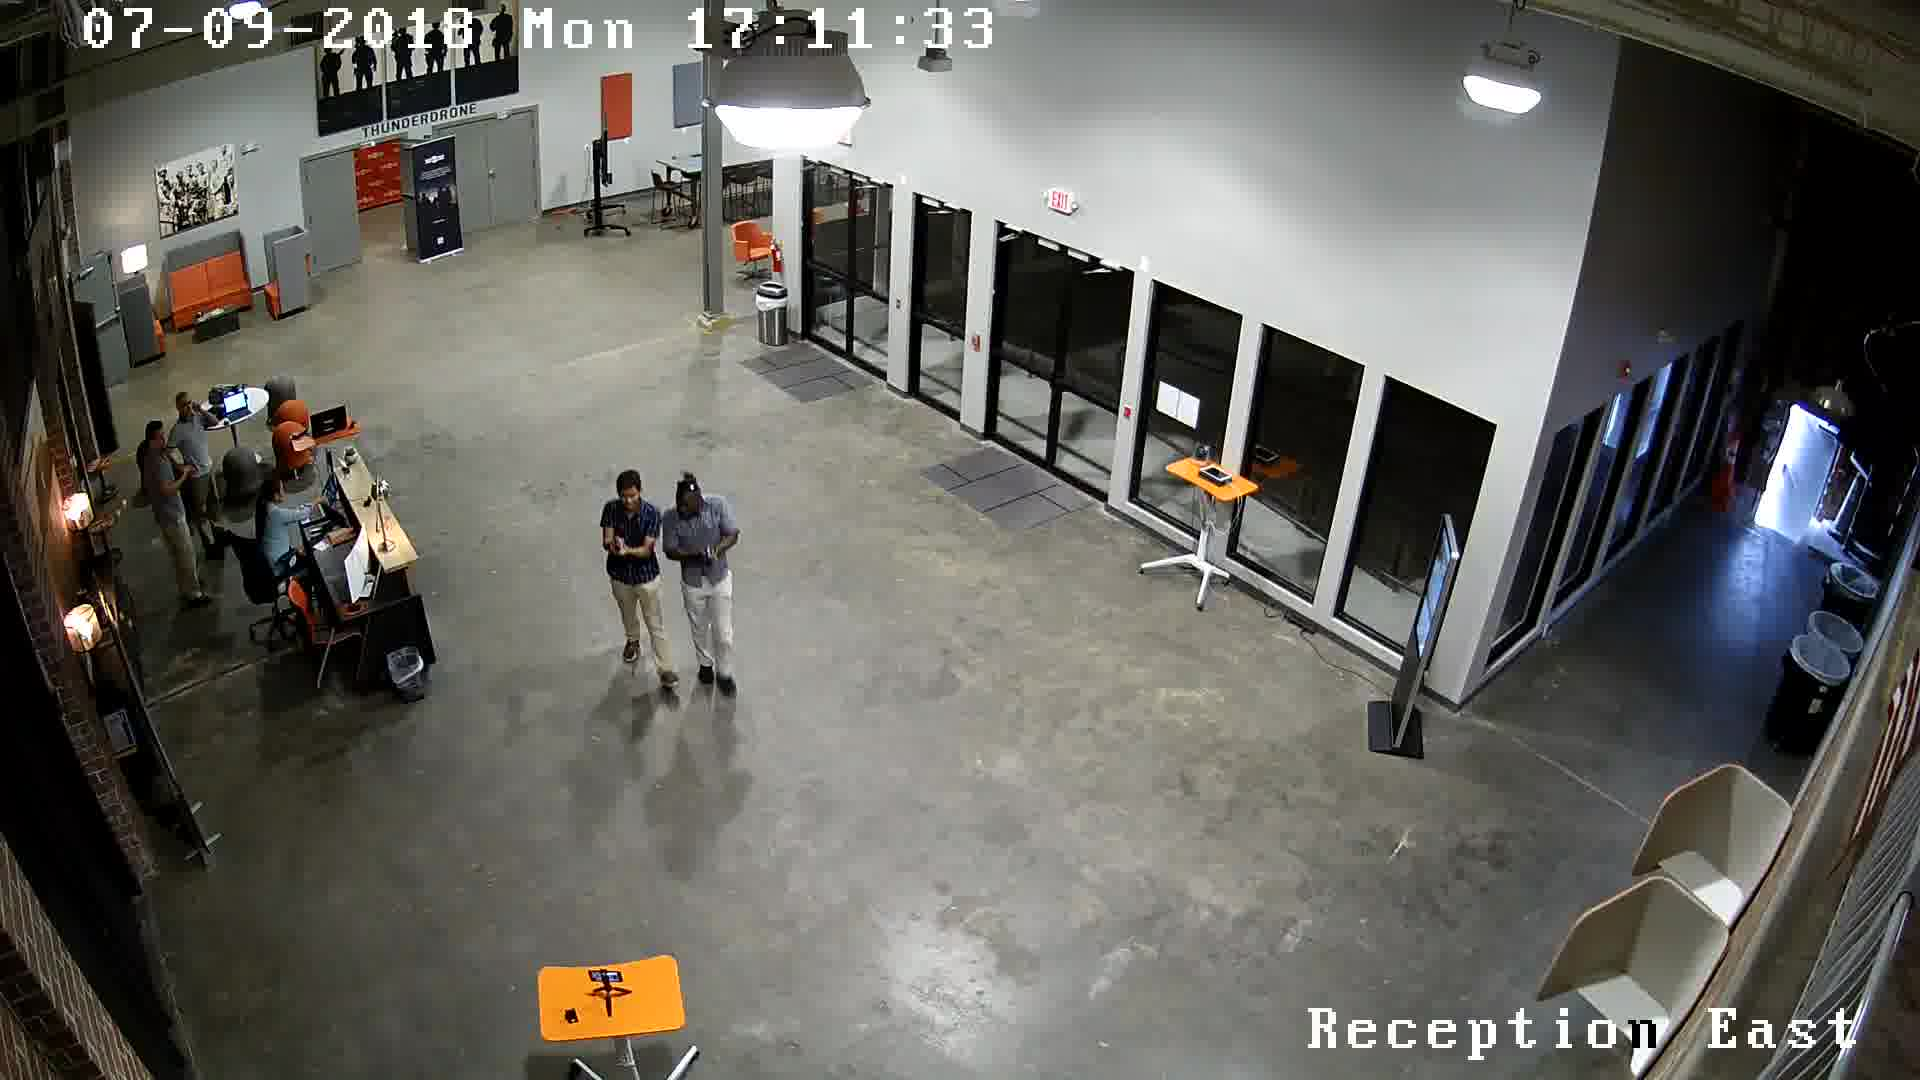pistol: (688, 541, 728, 585)
